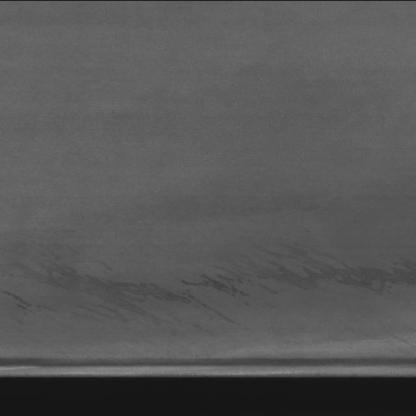water_spot: (5, 237, 416, 328)
